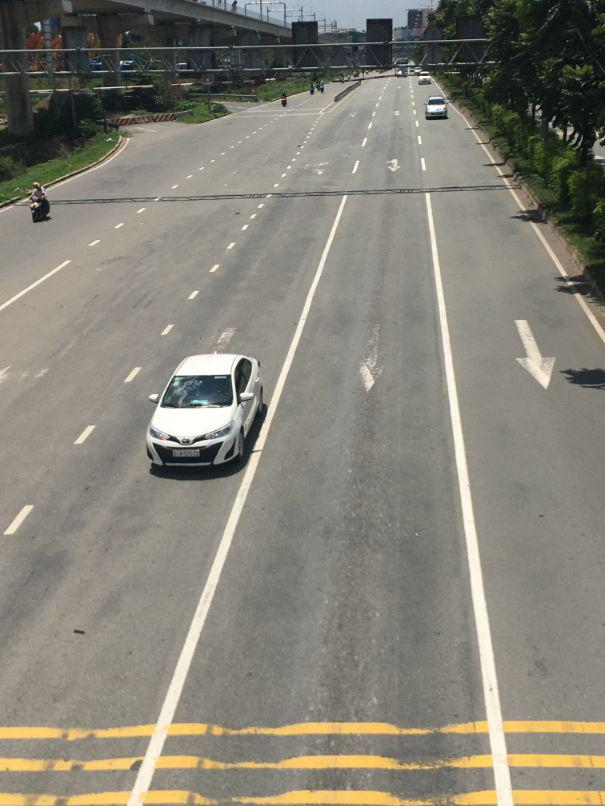car: (145, 351, 268, 474), (426, 98, 447, 122), (419, 76, 430, 85)
motorbike: (30, 186, 51, 223)
